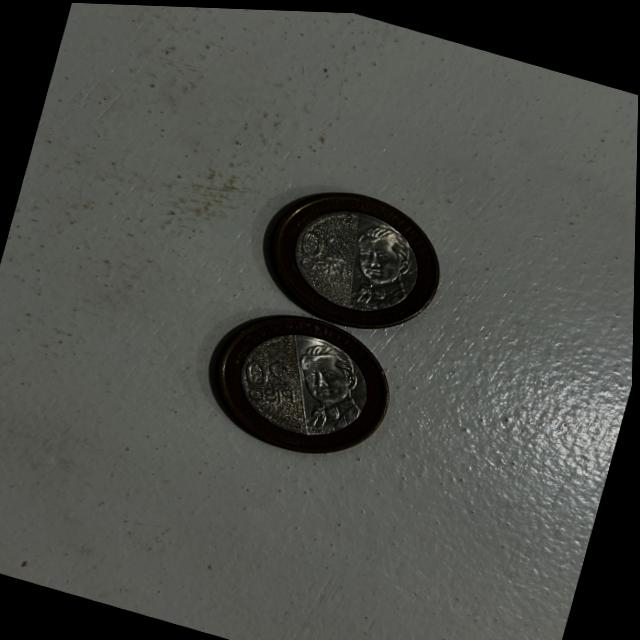20_New_Front: (238, 341, 303, 408), (290, 220, 353, 280)
